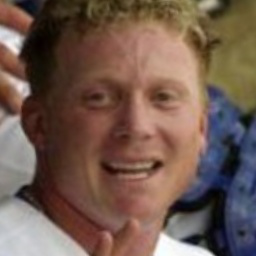Person: (8, 1, 236, 256)
